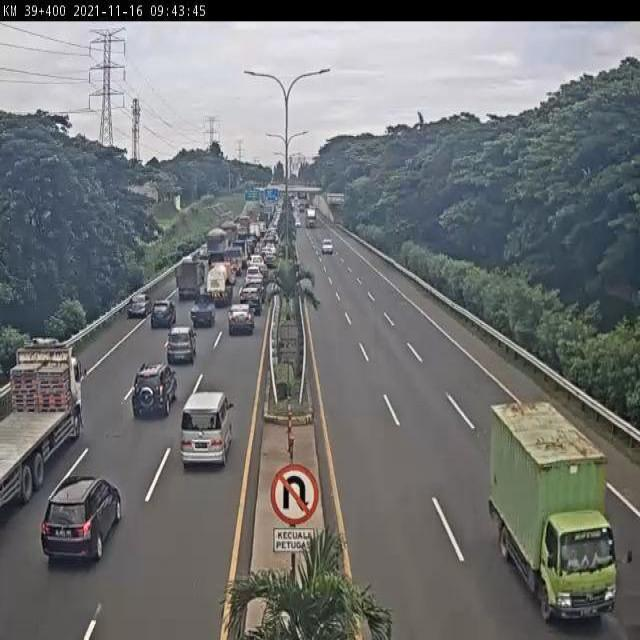car: (41, 474, 123, 562), (180, 391, 233, 469), (131, 364, 177, 419), (165, 330, 197, 370), (228, 304, 255, 340), (190, 295, 216, 329), (150, 298, 176, 330), (240, 288, 262, 315), (127, 293, 152, 316), (246, 279, 266, 300), (246, 265, 264, 284), (248, 254, 264, 266), (294, 217, 301, 227)
small truck: (491, 400, 618, 625), (175, 257, 206, 300), (223, 247, 242, 274)
truck-l-: (0, 345, 84, 508), (306, 208, 316, 227)
truck-m-: (206, 261, 234, 307), (206, 230, 228, 266)
